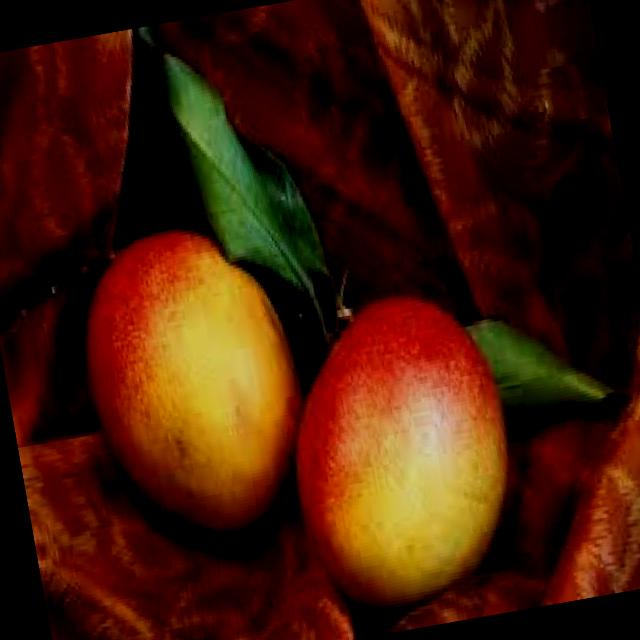Mango: (266, 278, 534, 616), (62, 210, 318, 555)
